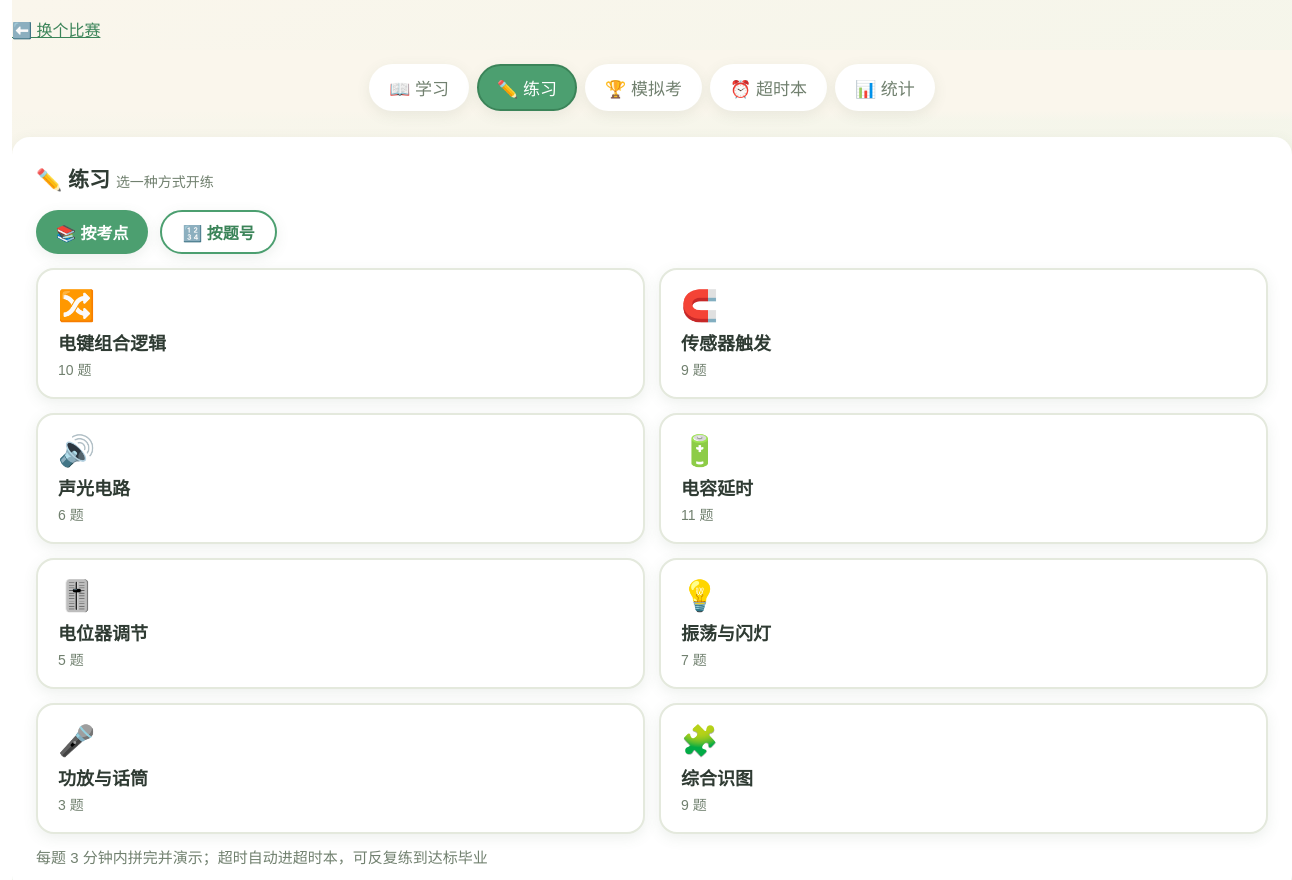
Test: chip 模块交互流 › 开始计时首帧即 0:00，不闪负数（准备 60 秒后再开始）
This screenshot has width=1292, height=880.
Click the button "🔋 电容延时 11 题" at (700, 451), box [659,413,1268,544]
Wait 60000 ms
(page scrolled)
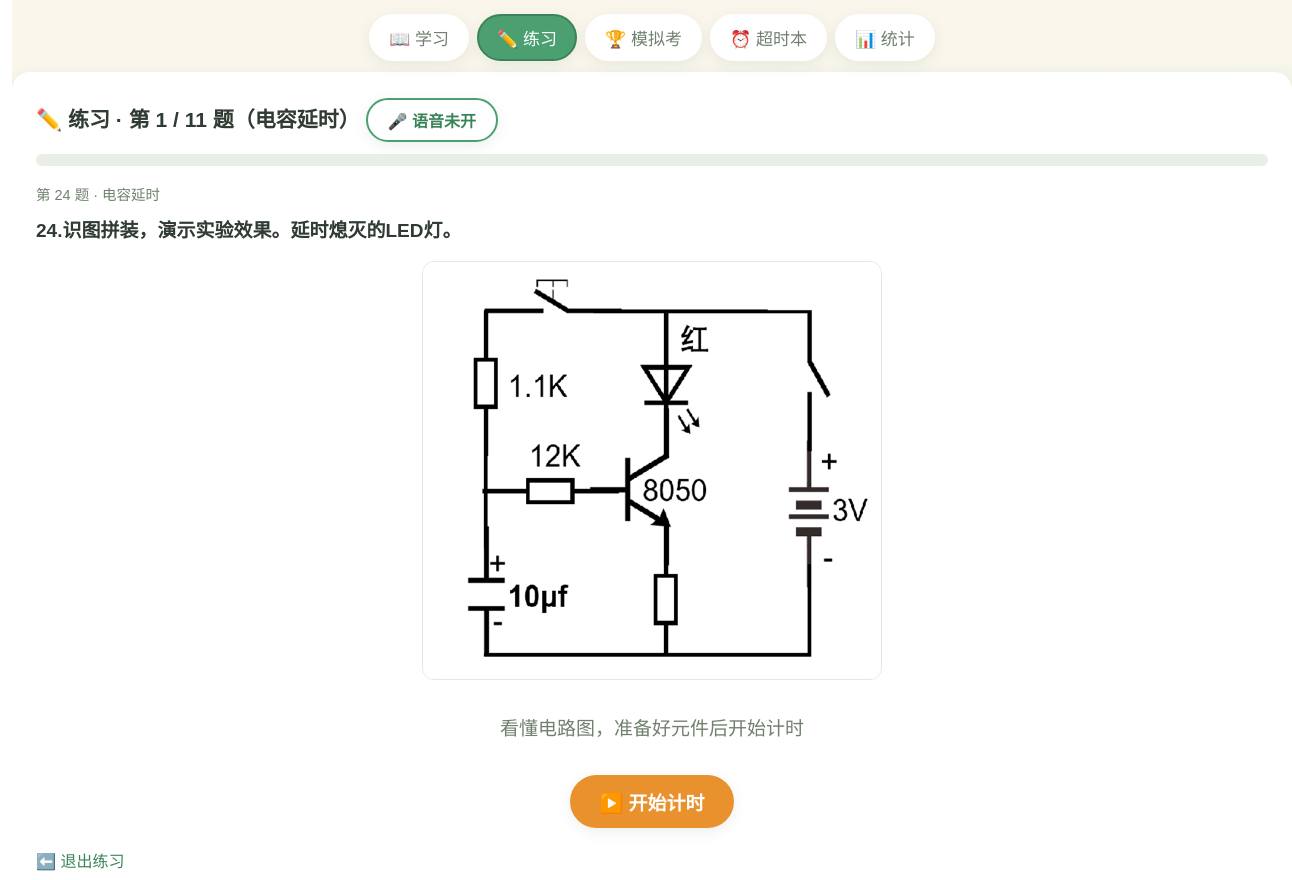
Click the button "▶️ 开始计时" at (652, 801), box [570,775,734,828]
(page scrolled)
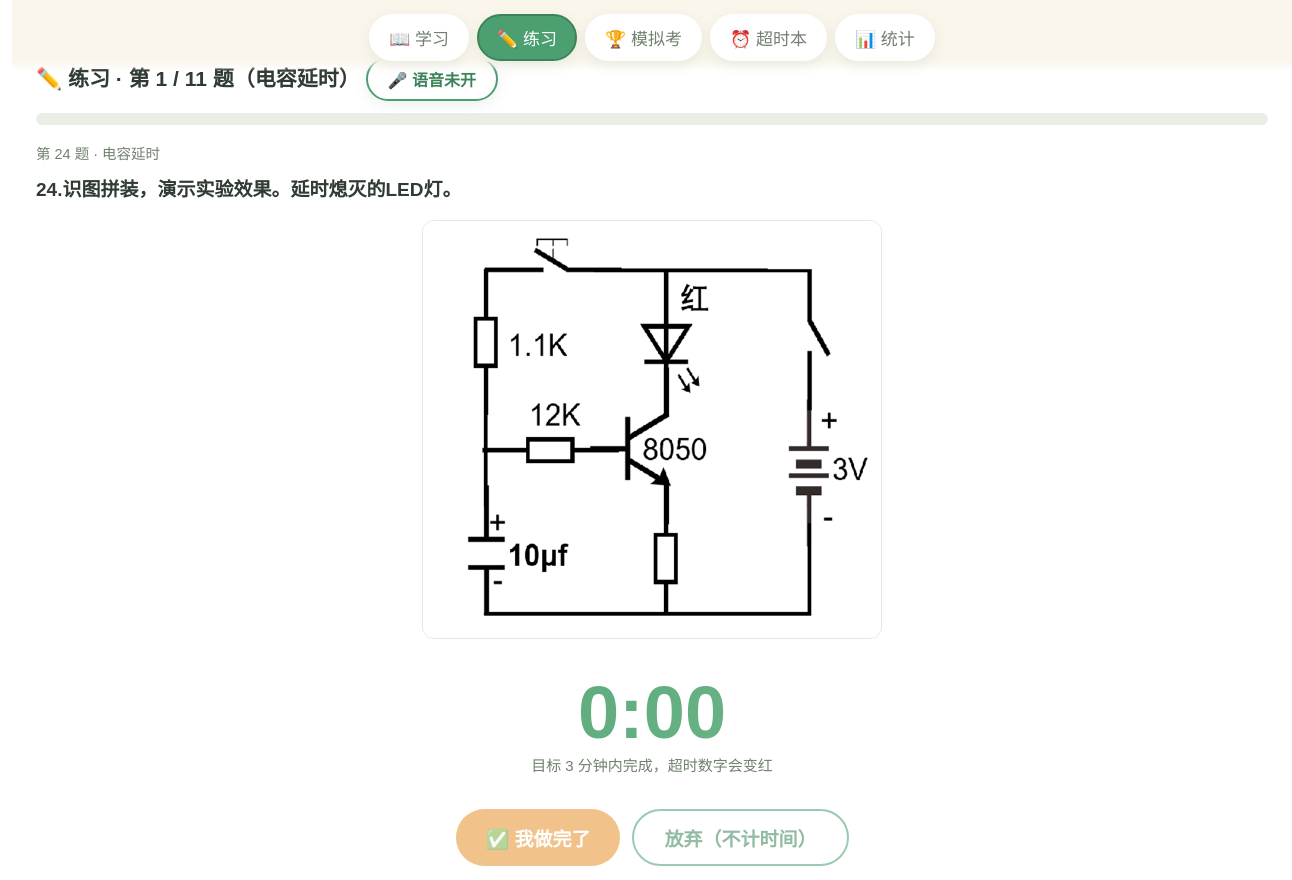
Result: the text with class "num" reads "0:00" at [578,671,726,754]
